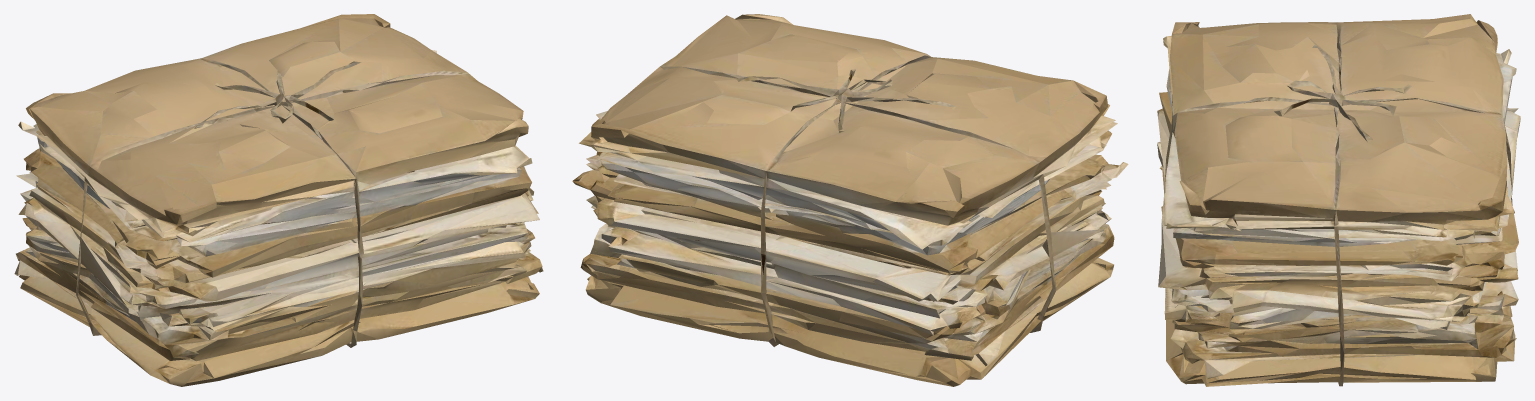
The model's file is paper_stack.glb.
3 renders of one model, left to right at view 1: azimuth 30°, elevation 25°; view 2: azimuth 150°, elevation 25°; view 3: azimuth 270°, elevation 25°, orthographic. The views are drawn at different scales.
Visible parts, largest first — view 1: paper_stack; view 2: paper_stack; view 3: paper_stack.
Boxes of the visible parts, x1=… form: paper_stack: x1=14, y1=14, x2=543, y2=386; paper_stack: x1=572, y1=14, x2=1128, y2=386; paper_stack: x1=1157, y1=14, x2=1520, y2=386.
Size of the model in its own units: 0.4 by 0.1987 by 0.2952.
1 material, 1 textured.
